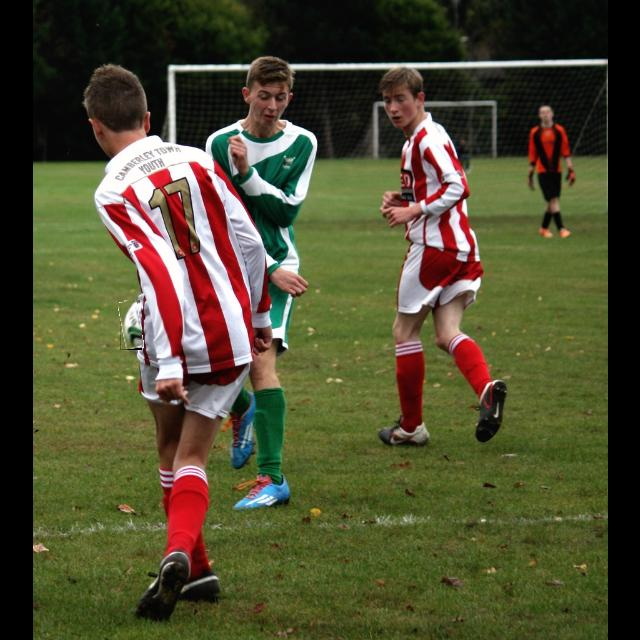Football: (120, 300, 142, 350)
